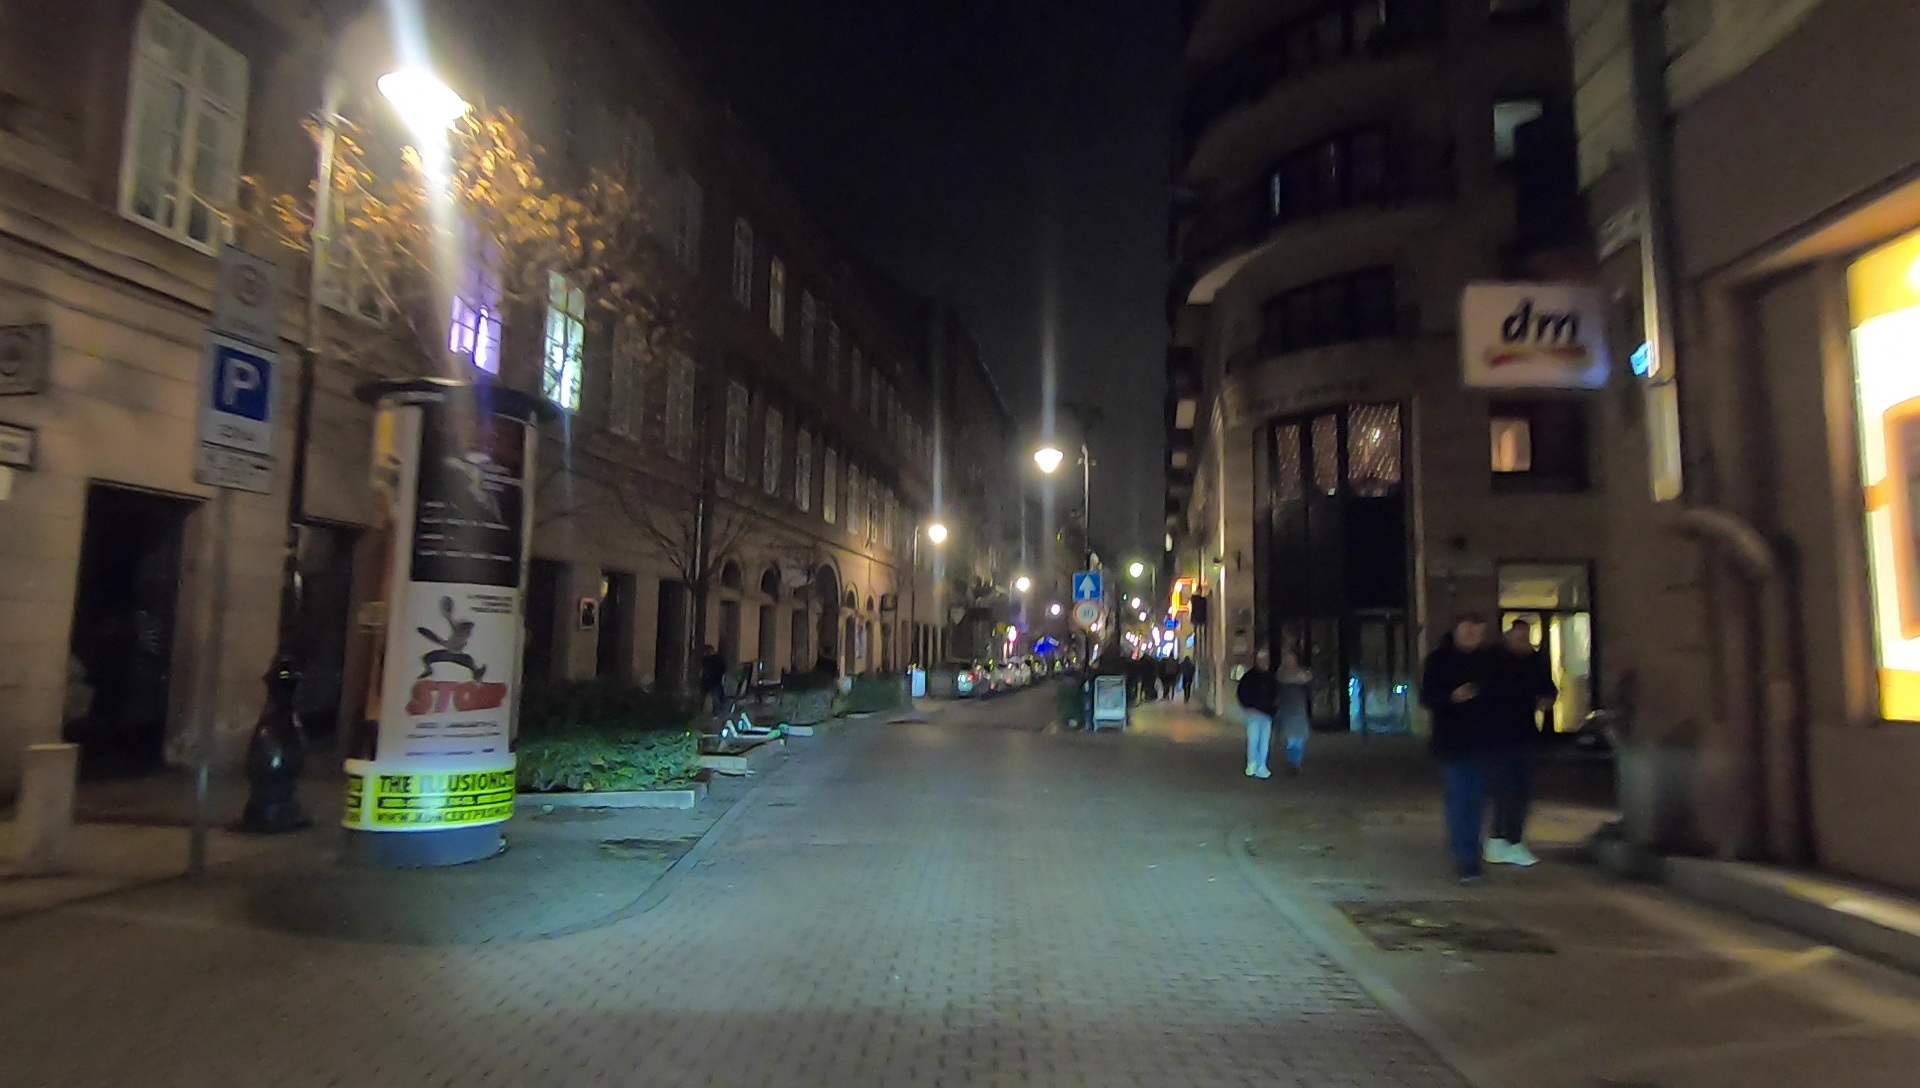person: (1434, 606, 1499, 880), (1497, 619, 1551, 863), (1232, 649, 1276, 780), (1278, 647, 1314, 761), (697, 643, 717, 699)
